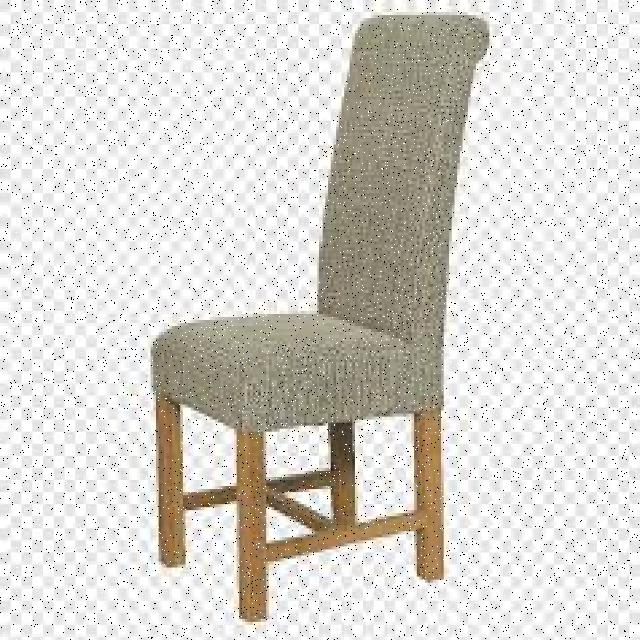bottle: (155, 8, 494, 626)
